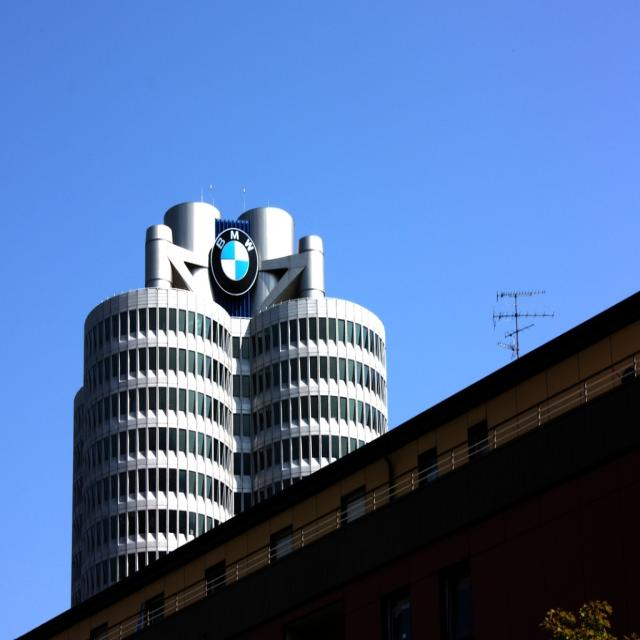bmw: (211, 226, 261, 299)
